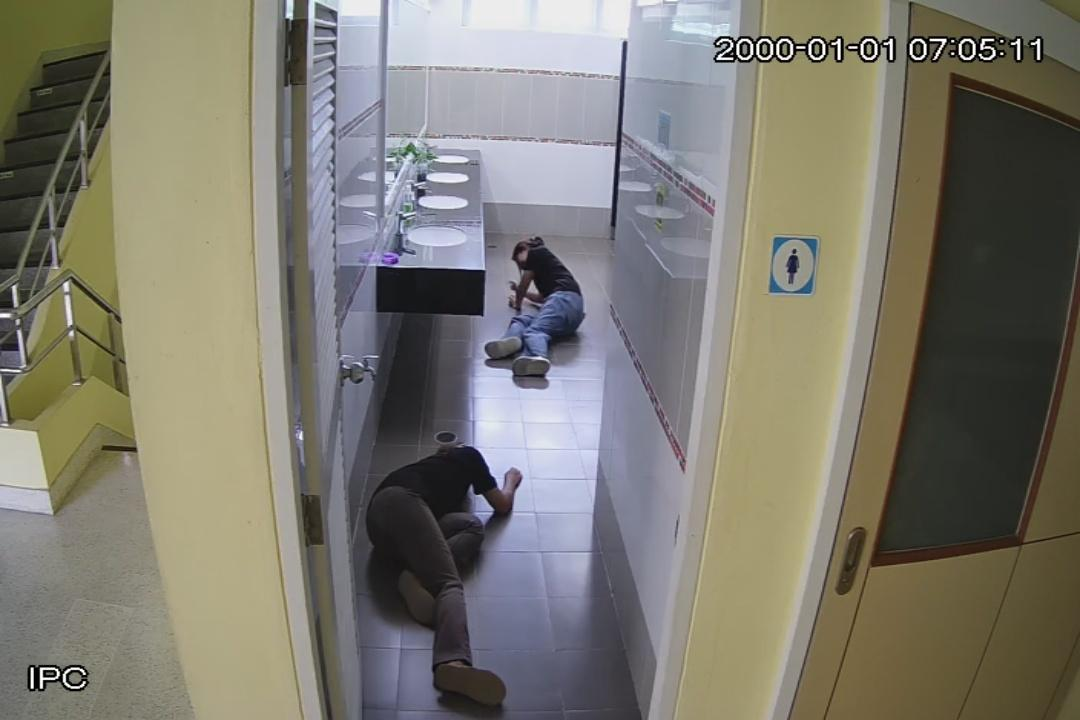fall: (350, 424, 524, 708), (478, 230, 588, 388)
